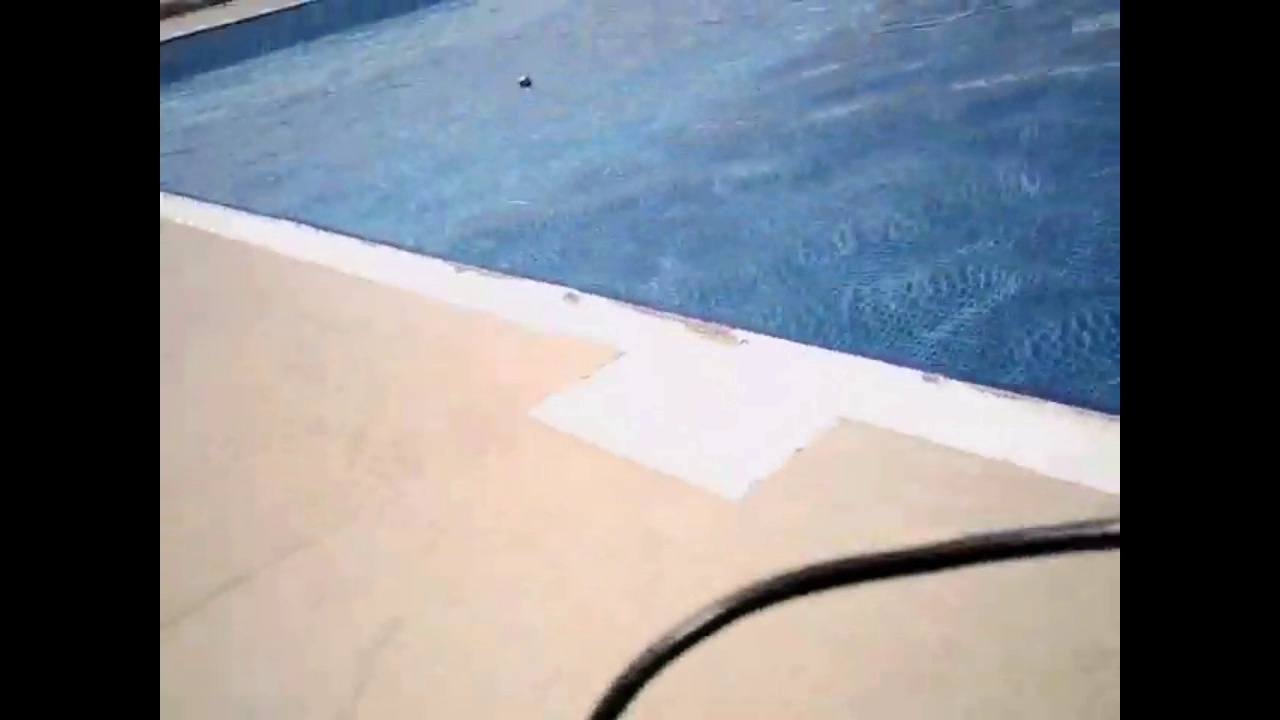debris: (511, 69, 538, 93)
